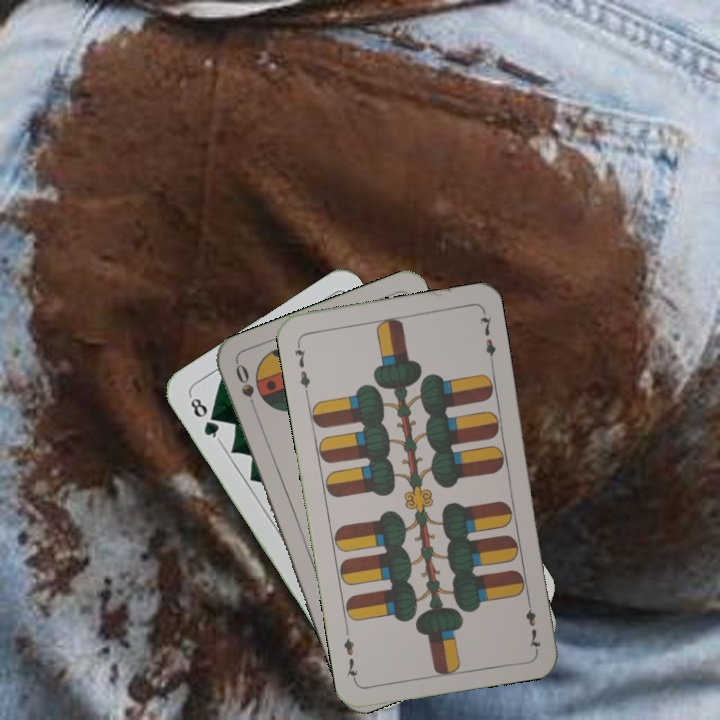E7: (521, 593, 544, 653), (290, 338, 313, 397)
G8: (185, 391, 224, 444)
SO: (231, 360, 260, 416)
